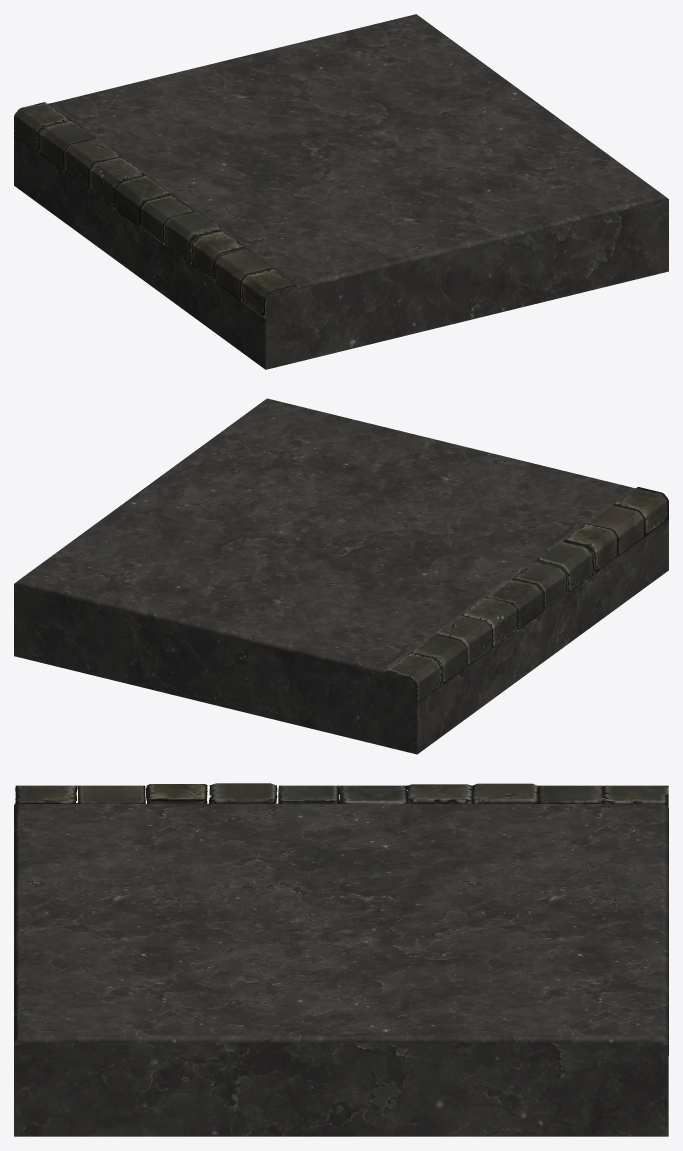
3 renders of one model, top to bottom at view 1: azimuth 30°, elevation 25°; view 2: azimuth 150°, elevation 25°; view 3: azimuth 270°, elevation 25°, orthographic. The views are drawn at different scales.
Parts seen in each view (by area): view 1: SM_Downdun_Vaulted_Floor_12x12_01_LOD0; view 2: SM_Downdun_Vaulted_Floor_12x12_01_LOD0; view 3: SM_Downdun_Vaulted_Floor_12x12_01_LOD0.
Boxes of the visible parts, x1,y1,x2,y2 form: SM_Downdun_Vaulted_Floor_12x12_01_LOD0: (14,14,668,369); SM_Downdun_Vaulted_Floor_12x12_01_LOD0: (14,398,668,754); SM_Downdun_Vaulted_Floor_12x12_01_LOD0: (14,783,668,1136).
Bounding box in the file's own units: 11.1 × 2.05 × 12.01.
Materials: 2 (2 with a texture image).
